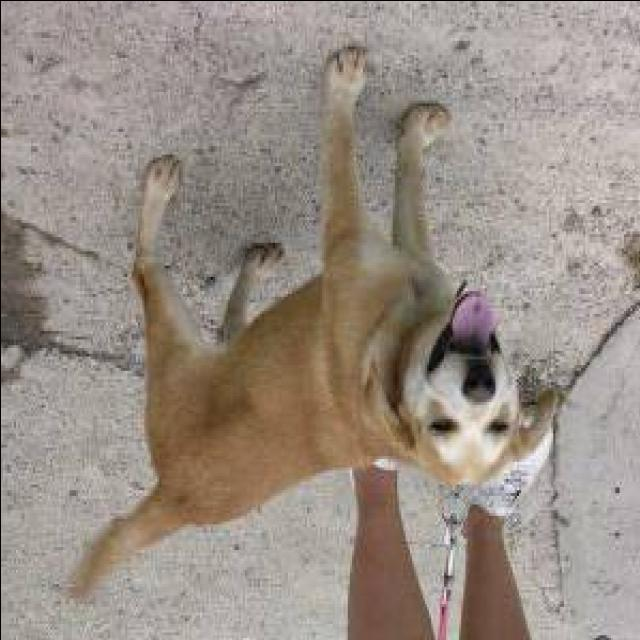dog: (58, 48, 563, 594)
